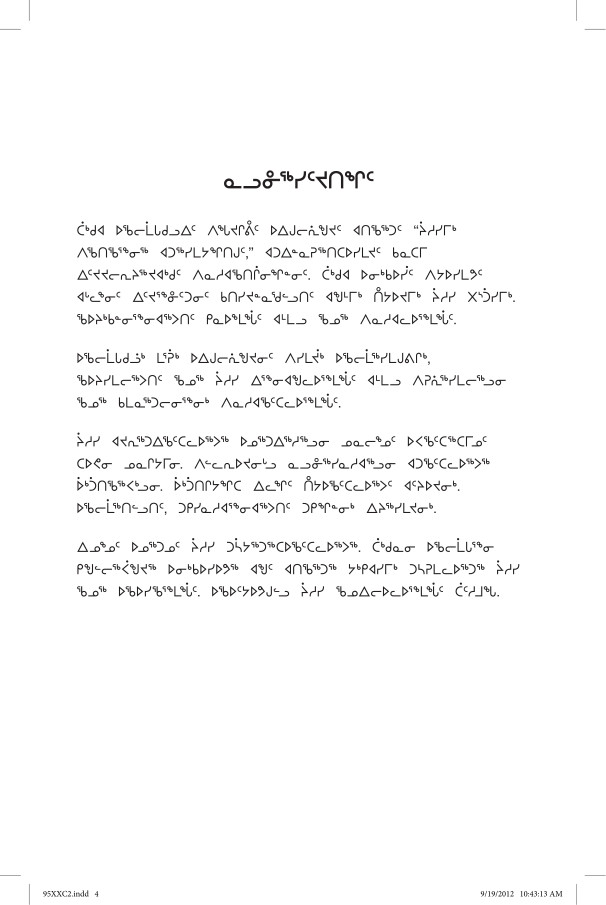inuktitut: (68, 211, 526, 603), (213, 164, 381, 192)
